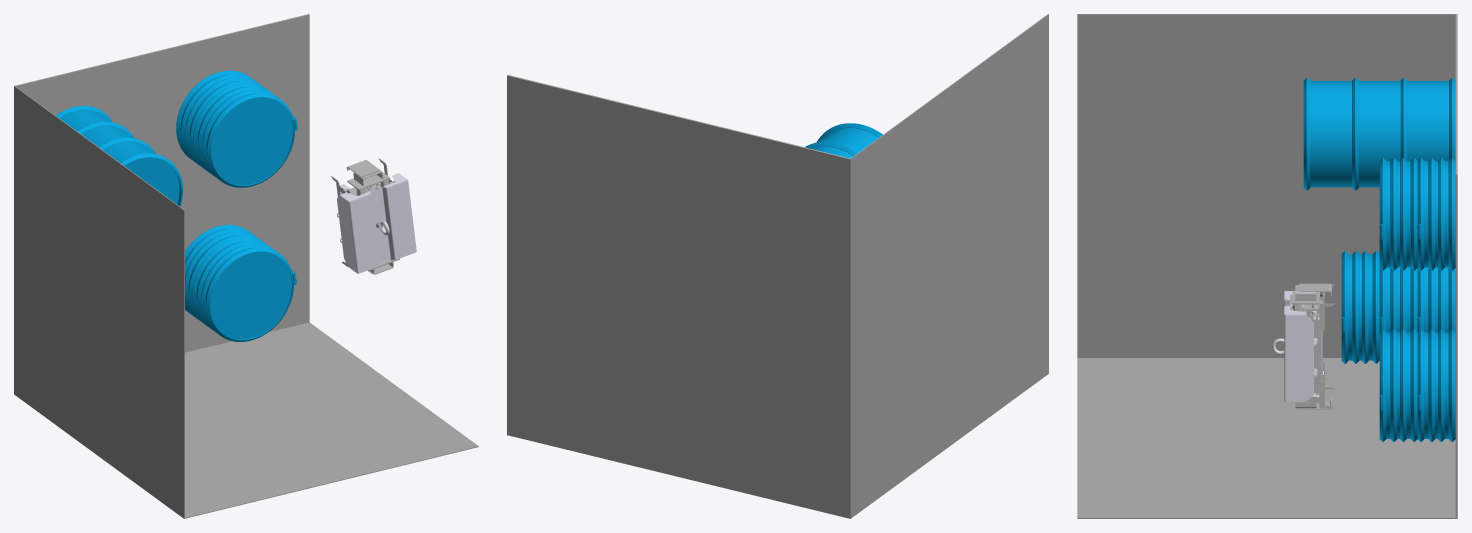
Rendered from Zachvat.gltf.
3 views of the same model, side by side, from view 1: azimuth 30°, elevation 25°; view 2: azimuth 150°, elevation 25°; view 3: azimuth 270°, elevation 25° (orthographic). The views are drawn at different scales.
Parts seen in each view (by area): view 1: Оболочка (×8); view 2: Оболочка (×2); view 3: Оболочка (×15).
Boxes of the visible parts, box(x1,y1,x2,y2) form: Оболочка (×8): box(14, 14, 478, 518); Оболочка (×2): box(507, 14, 1048, 518); Оболочка (×15): box(1077, 14, 1457, 518).
Size of the model in its own units: 2210 by 2000 by 2000.
